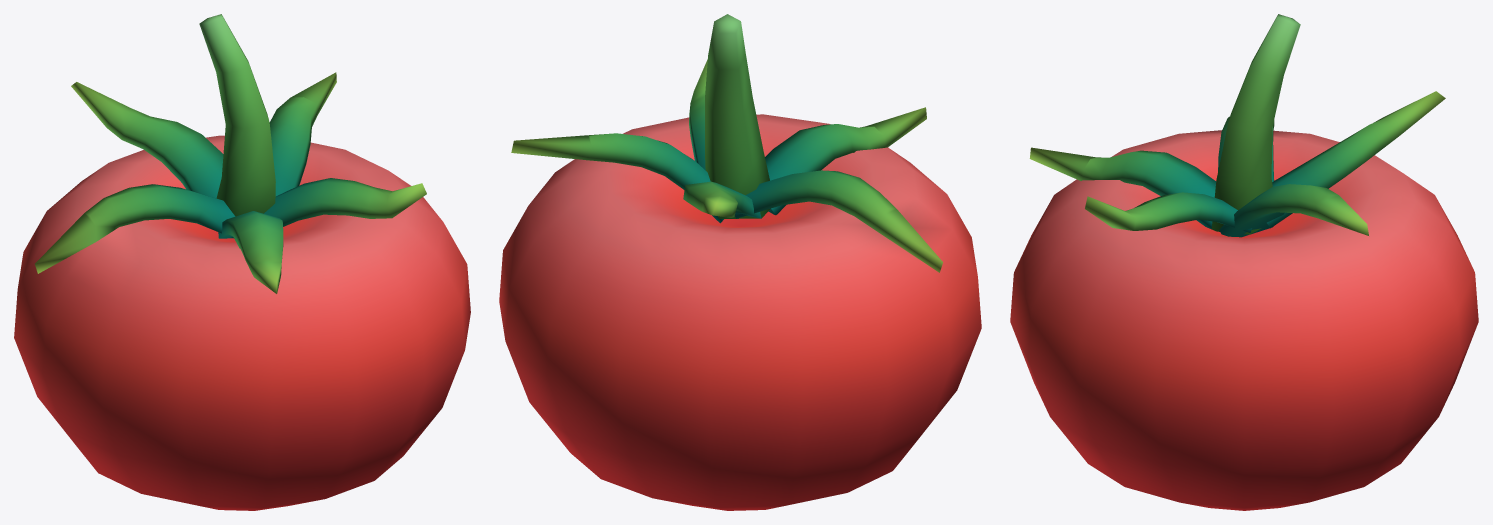
Rendered from tomato_001.fbx.
The picture shows the model from 3 angles, left to right: view 1: azimuth 30°, elevation 25°; view 2: azimuth 150°, elevation 25°; view 3: azimuth 270°, elevation 25°; orthographic projection. The views are drawn at different scales.
Parts seen in each view (by area): view 1: tomato_001; view 2: tomato_001; view 3: tomato_001.
Part boxes in pixels (left/top/right/bottom): tomato_001: left=14, top=14, right=470, bottom=510; tomato_001: left=499, top=14, right=981, bottom=510; tomato_001: left=1010, top=14, right=1478, bottom=510.
Size of the model in its own units: 8.97 by 8.97 by 9.61.
